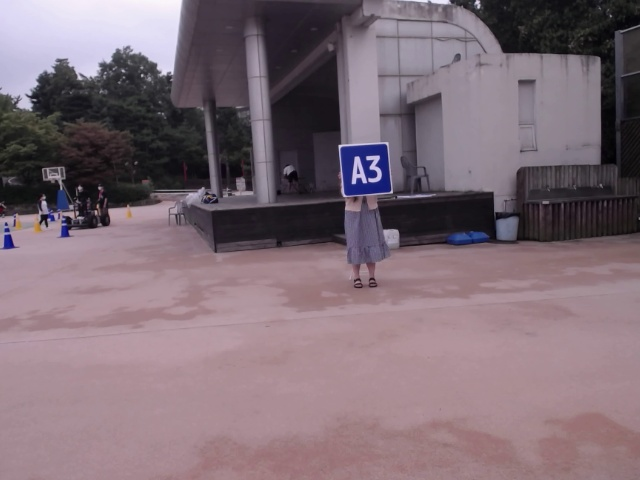delivery_a3: (340, 143, 393, 196)
